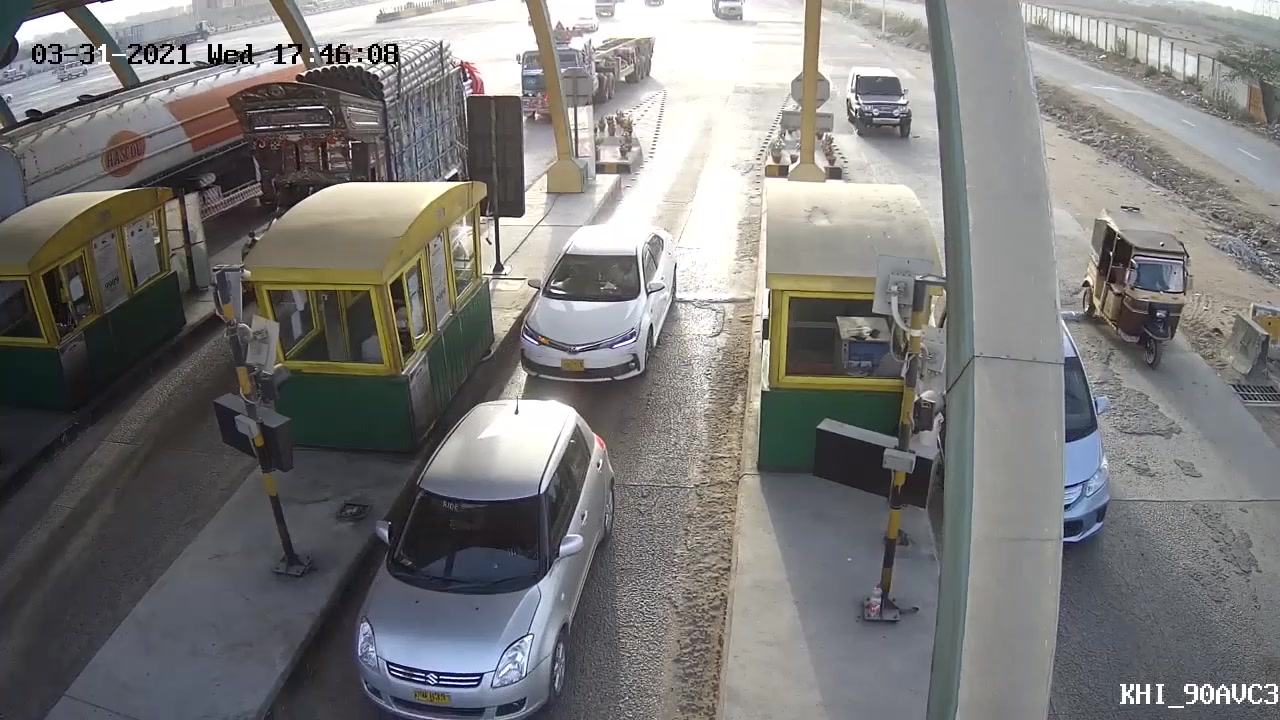F1: (340, 398, 618, 720), (511, 216, 678, 385)
